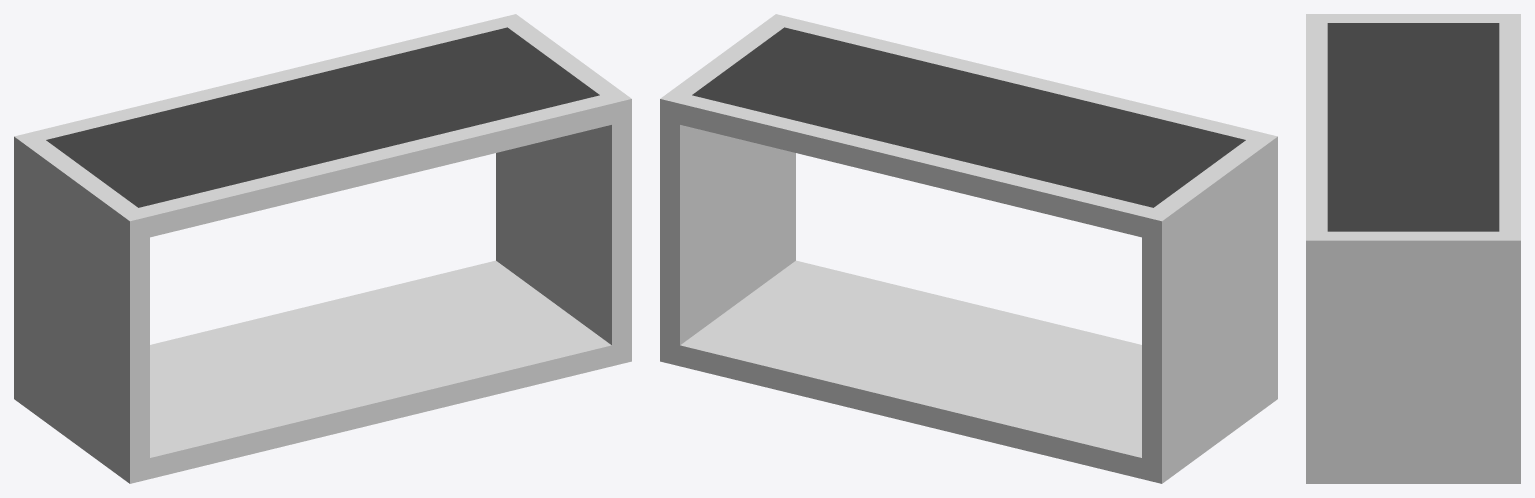
Rendered from Bench1_C1.fbx.
3 views of the same model, side by side, from view 1: azimuth 30°, elevation 25°; view 2: azimuth 150°, elevation 25°; view 3: azimuth 270°, elevation 25° (orthographic). The views are drawn at different scales.
Parts seen in each view (by area): view 1: Bench1_C1; view 2: Bench1_C1; view 3: Bench1_C1.
Boxes of the visible parts, x1=… form: Bench1_C1: x1=14, y1=14, x2=631, y2=483; Bench1_C1: x1=660, y1=14, x2=1277, y2=483; Bench1_C1: x1=1306, y1=14, x2=1520, y2=483.
Size of the model in its own units: 100 by 50 by 40.
